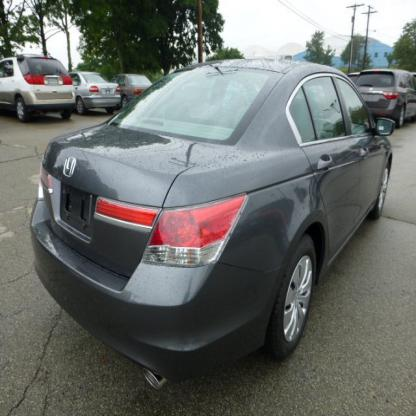Vehicle: (30, 59, 392, 392)
